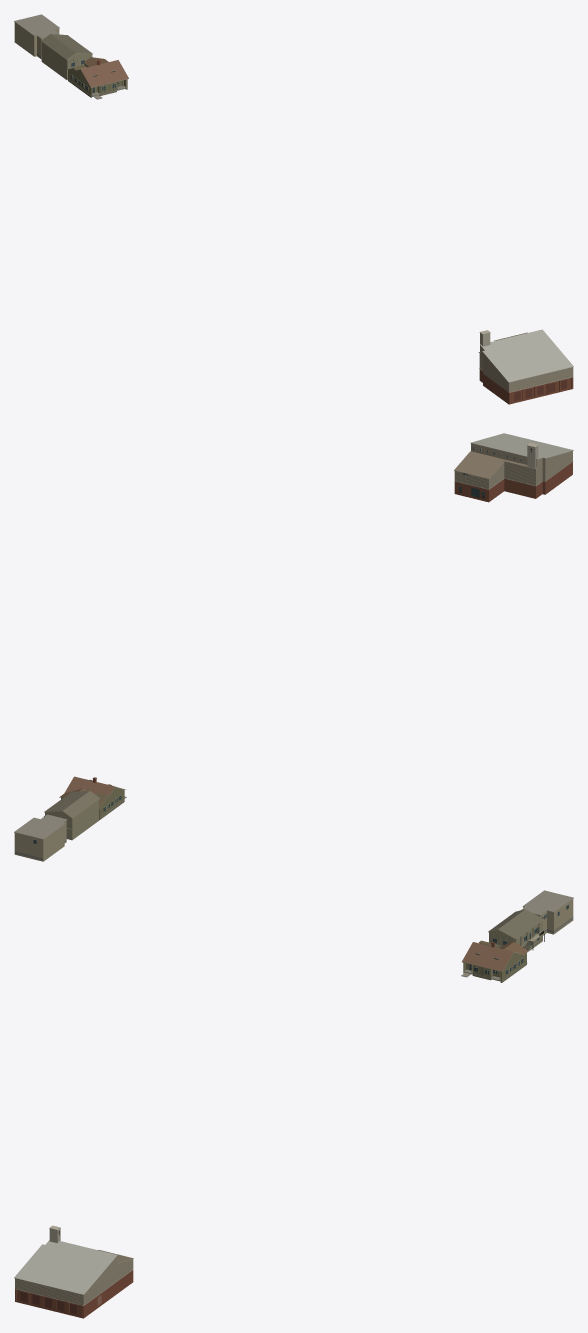
Rendered from site.glb.
3 renders of one model, top to bottom at view 1: azimuth 30°, elevation 25°; view 2: azimuth 150°, elevation 25°; view 3: azimuth 330°, elevation 25°, orthographic. The views are drawn at different scales.
Parts seen in each view (by area): view 1: roof-4dff8a97, roof-dcd48157, e16-alley-634-640, e16-alley-630-632; view 2: roof-4dff8a97, e16-alley-630-632, e16-alley-634-640, roof-dcd48157; view 3: roof-4dff8a97, roof-dcd48157, e16-alley-634-640, e16-alley-630-632.
Boxes of the visible parts, x1,y1,x2,y2 form: roof-4dff8a97: [478, 329, 573, 404]; roof-dcd48157: [67, 57, 128, 97]; e16-alley-634-640: [41, 34, 92, 79]; e16-alley-630-632: [14, 14, 59, 59]; roof-4dff8a97: [454, 433, 573, 502]; e16-alley-630-632: [14, 814, 67, 861]; e16-alley-634-640: [44, 790, 99, 840]; roof-dcd48157: [59, 776, 125, 820]; roof-4dff8a97: [14, 1225, 133, 1318]; roof-dcd48157: [462, 940, 528, 982]; e16-alley-634-640: [488, 909, 544, 951]; e16-alley-630-632: [521, 890, 573, 935].
Size of the model in its own units: 21.89 by 15.5 by 288.
